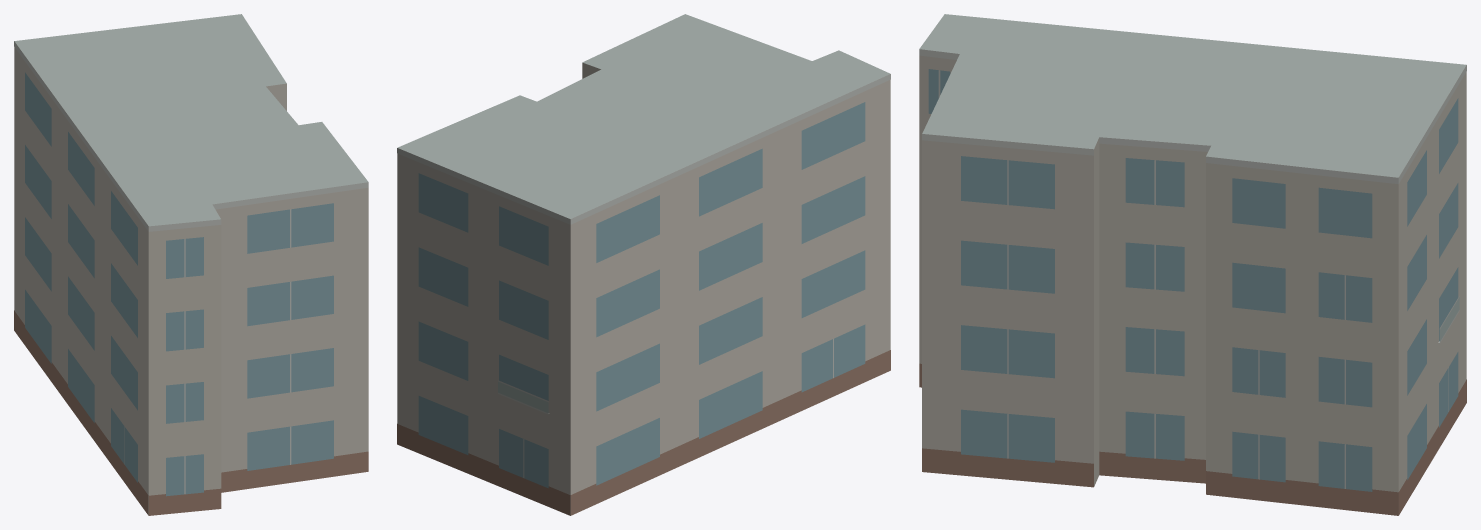
Rendered from survey-upis-33002763.glb.
3 renders of one model, left to right at view 1: azimuth 30°, elevation 25°; view 2: azimuth 150°, elevation 25°; view 3: azimuth 270°, elevation 25°, orthographic. The views are drawn at different scales.
Parts seen in each view (by area): view 1: survey-upis-33002763.tmp; view 2: survey-upis-33002763.tmp; view 3: survey-upis-33002763.tmp.
Part boxes in pixels (bbox=[...]): survey-upis-33002763.tmp: bbox=[14, 14, 368, 515]; survey-upis-33002763.tmp: bbox=[397, 14, 890, 515]; survey-upis-33002763.tmp: bbox=[919, 14, 1466, 515].
Bounding box in the file's own units: 13.31 × 12.8 × 18.8.
